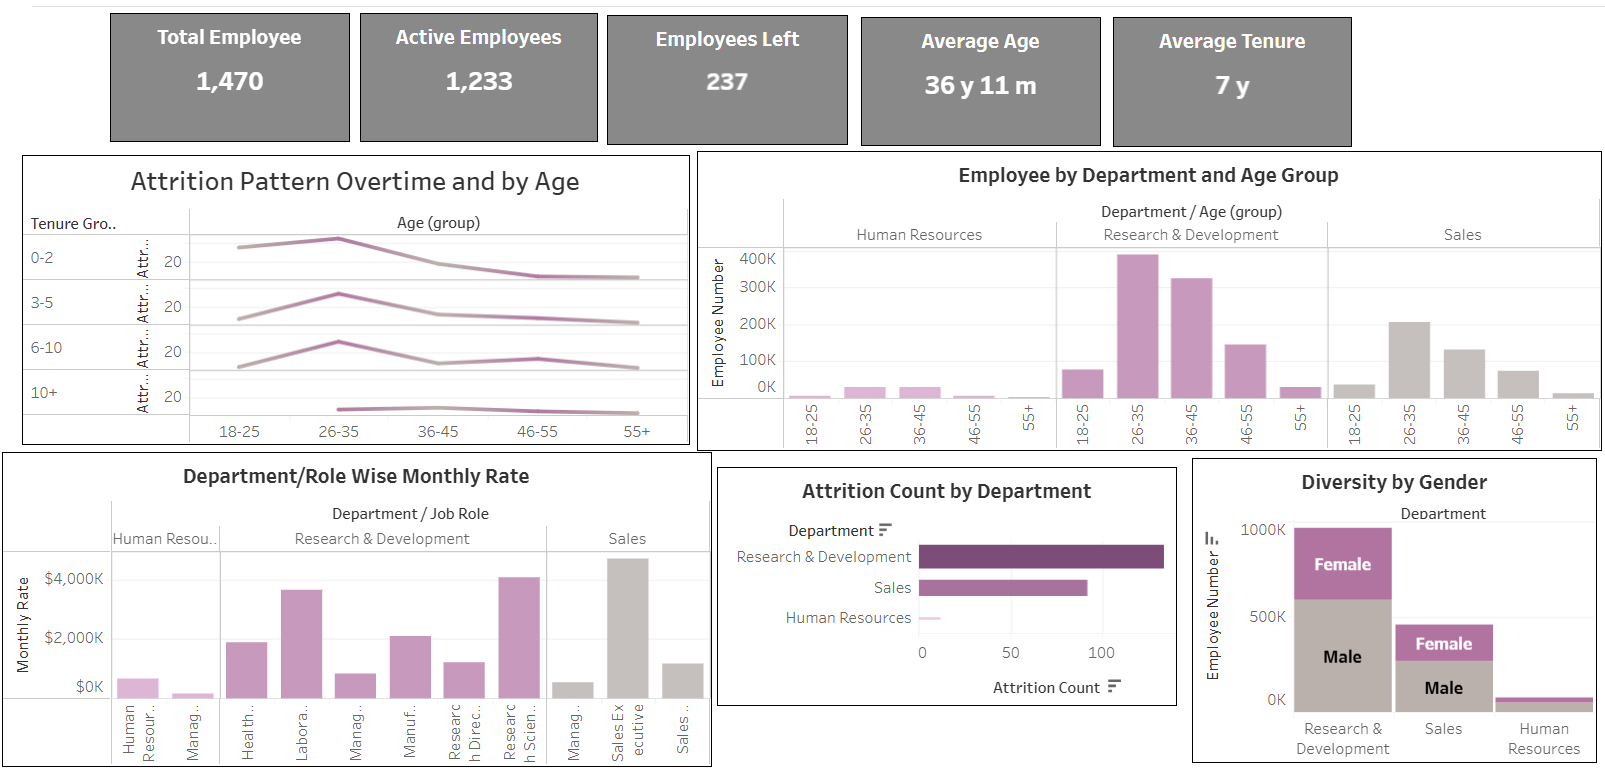

The page's visual inventory and layout, read from the dashboard file:
{"tool":"tableau","page":{"name":"Dashboard","canvas":[1000,1000],"units":"permille","ordinal":0},"visuals":[{"type":"worksheet","title":"Total Employee","mark":"Automatic","box":[74.4,7.5,129.5,168.5]},{"type":"worksheet","title":"Active Employees","mark":"Automatic","box":[209.1,7.5,129.5,168.5]},{"type":"worksheet","title":".","mark":"Automatic","box":[4.8,10,893.8,980]},{"type":"worksheet","title":"Employees Left","mark":"Automatic","box":[343.3,10,130.1,168.5]},{"type":"legend","title":"Diversity by Gender","param":"[federated.0m9wzbz1w0koql1f1r2tv0c0q2w0].[none:Gender:nk]","box":[898.6,10,96.6,89.9]},{"type":"worksheet","title":"Average Age","mark":"Automatic","box":[479.8,12.5,130.1,168.5]},{"type":"worksheet","title":"Average Tenure","mark":"Automatic","box":[616.3,13.7,129.5,168.5]},{"type":"legend","title":"Monthly Rate","param":"[federated.0m9wzbz1w0koql1f1r2tv0c0q2w0].[none:Department:nk]","box":[898.6,99.9,96.6,116.1]},{"type":"worksheet","title":"Employee by Department and Age Group","mark":"Automatic","rows":["EmployeeNumber"],"cols":["Department"],"box":[391.7,187.3,488.8,390.8]},{"type":"worksheet","title":"Attrition by age","mark":"Line","rows":["Calculation_1182476433380982785","Calculation_901001458545164288"],"box":[27.2,192.3,360.3,377]},{"type":"legend","title":"Attrition by Depart","param":"[federated.0m9wzbz1w0koql1f1r2tv0c0q2w0].[usr:Calculation_901001458545164288:qk]","box":[898.6,216,96.6,142.3]},{"type":"legend","title":"Attrition by Depart","param":"[federated.0m9wzbz1w0koql1f1r2tv0c0q2w0].[usr:Calculation_901001458545164288:qk]","box":[898.6,358.3,96.6,91.1]},{"type":"legend","title":"Attrition by age","param":"[federated.0m9wzbz1w0koql1f1r2tv0c0q2w0].[Age (group)]","box":[898.6,449.4,96.6,168.5]},{"type":"worksheet","title":"Monthly Rate","mark":"Automatic","rows":["MonthlyRate"],"cols":["Department","JobRole"],"box":[16.3,579.3,383.2,409.5]},{"type":"worksheet","title":"Diversity by Gender","mark":"Automatic","rows":["EmployeeNumber"],"cols":["Department"],"box":[659,586.8,218.5,397]},{"type":"worksheet","title":"Attrition by Depart","mark":"Automatic","rows":["Department"],"cols":["Calculation_901001458545164288"],"box":[402.5,598,248.6,310.9]}]}

Visuals, with their boxes on the dashboard's canvas, which has no fixed pixel size, in thousandths of its width and height (x1, y1, x2, y2). These are canvas units, not pixel positions in the 1605x774 screenshot, which may show the page scaled, cropped or inside an application window:
"Total Employee" worksheet: [74, 8, 204, 176]
"Active Employees" worksheet: [209, 8, 339, 176]
"." worksheet: [5, 10, 899, 990]
"Employees Left" worksheet: [343, 10, 473, 178]
"Diversity by Gender" legend: [899, 10, 995, 100]
"Average Age" worksheet: [480, 12, 610, 181]
"Average Tenure" worksheet: [616, 14, 746, 182]
"Monthly Rate" legend: [899, 100, 995, 216]
"Employee by Department and Age Group" worksheet: [392, 187, 880, 578]
"Attrition by age" worksheet (Line marks): [27, 192, 388, 569]
"Attrition by Depart" legend: [899, 216, 995, 358]
"Attrition by Depart" legend: [899, 358, 995, 449]
"Attrition by age" legend: [899, 449, 995, 618]
"Monthly Rate" worksheet: [16, 579, 400, 989]
"Diversity by Gender" worksheet: [659, 587, 878, 984]
"Attrition by Depart" worksheet: [402, 598, 651, 909]
